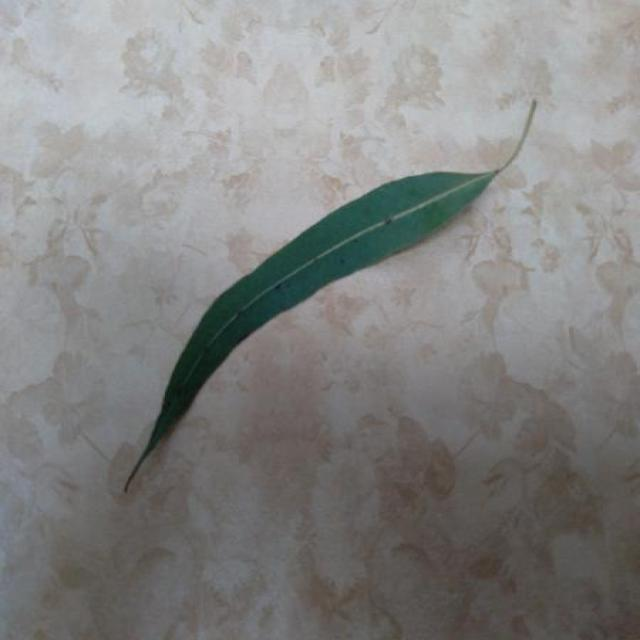eucalpytus: (125, 101, 536, 489)
